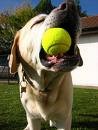tennis ball: (41, 26, 72, 56)
